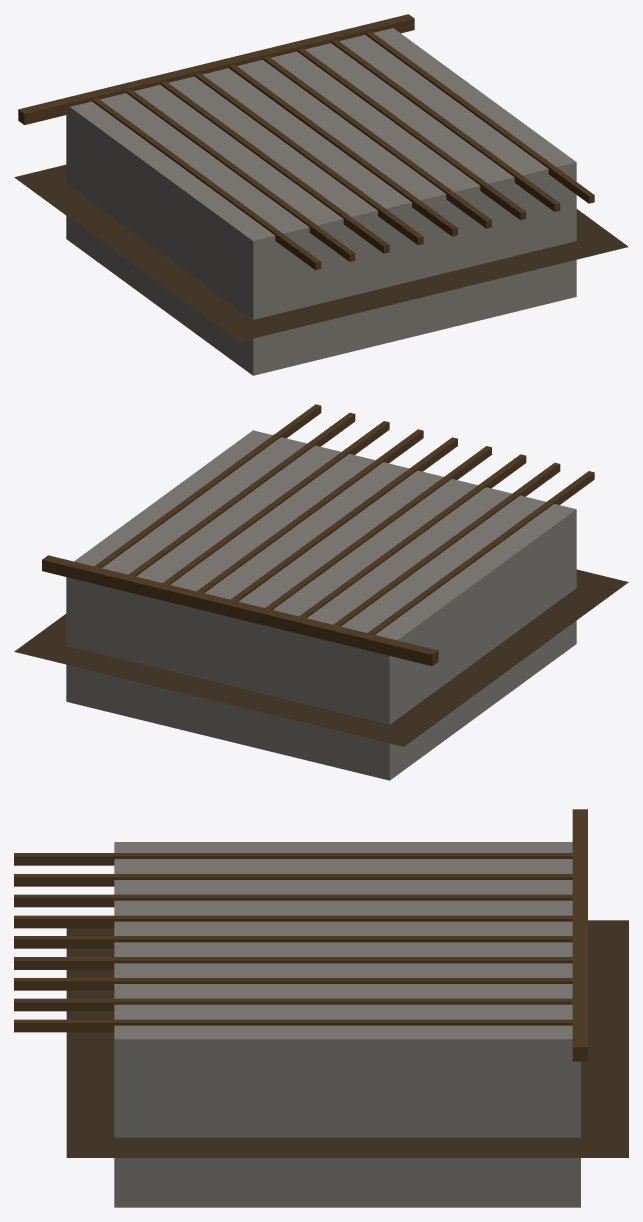
Rendered from SM_TA_Room.fbx.
The picture shows the model from 3 angles, top to bottom: view 1: azimuth 30°, elevation 25°; view 2: azimuth 150°, elevation 25°; view 3: azimuth 270°, elevation 25°; orthographic projection. The views are drawn at different scales.
Visible parts, largest first — view 1: pCube53, pPlane3, pCube79, pCube80, pCube87, pCube82, pCube83, pCube84, pCube86, pCube88, pCube85, pCube81; view 2: pCube53, pPlane3, pCube79, pCube80, pCube88, pCube83, pCube86, pCube84, pCube82, pCube87, pCube81, pCube85; view 3: pCube53, pPlane3, pCube83, pCube84, pCube85, pCube88, pCube80, pCube81, pCube82, pCube86, pCube87, pCube79.
Part boxes in pixels (<box>): pCube53: <box>66,28,576,375</box>; pPlane3: <box>14,164,628,341</box>; pCube79: <box>18,14,414,124</box>; pCube80: <box>228,64,457,236</box>; pCube87: <box>92,98,321,270</box>; pCube82: <box>297,48,526,220</box>; pCube83: <box>331,39,560,211</box>; pCube84: <box>365,31,594,203</box>; pCube86: <box>126,89,355,261</box>; pCube88: <box>160,81,389,253</box>; pCube85: <box>194,73,423,245</box>; pCube81: <box>263,56,491,228</box>; pCube53: <box>66,430,576,780</box>; pPlane3: <box>14,569,628,746</box>; pCube79: <box>42,555,438,666</box>; pCube80: <box>231,437,457,601</box>; pCube88: <box>299,454,526,618</box>; pCube83: <box>128,412,355,576</box>; pCube86: <box>333,462,560,626</box>; pCube84: <box>94,404,321,568</box>; pCube82: <box>163,421,389,584</box>; pCube87: <box>367,471,594,634</box>; pCube81: <box>197,429,423,593</box>; pCube85: <box>265,446,491,609</box>; pCube53: <box>114,842,580,1207</box>; pPlane3: <box>66,920,628,1157</box>; pCube83: <box>14,998,572,1011</box>; pCube84: <box>14,1019,572,1032</box>; pCube85: <box>14,915,572,928</box>; pCube88: <box>14,894,572,907</box>; pCube80: <box>14,936,572,948</box>; pCube81: <box>14,957,572,969</box>; pCube82: <box>14,978,572,990</box>; pCube86: <box>14,874,572,886</box>; pCube87: <box>14,853,572,865</box>; pCube79: <box>572,809,587,1061</box>.
Bounding box in the file's own units: 706 × 233 × 749.
